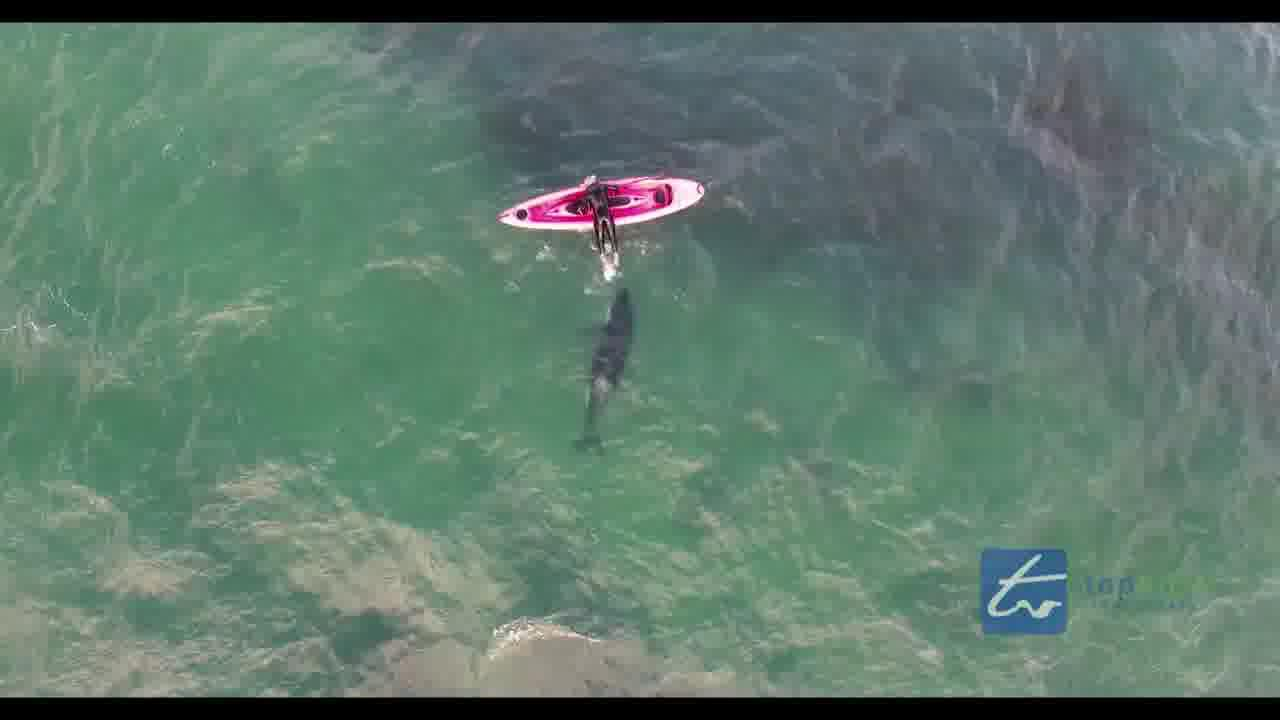swimmer: (584, 176, 618, 253)
